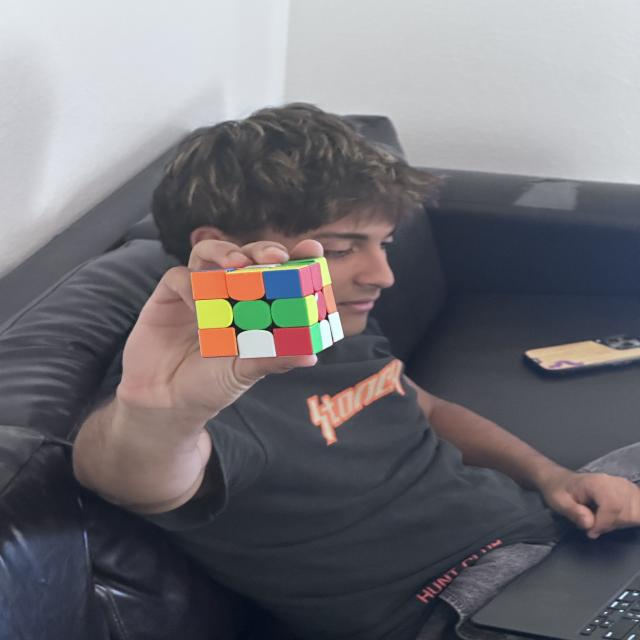sticker: (271, 296, 317, 330), (264, 266, 306, 301), (196, 326, 240, 359), (189, 268, 230, 302), (232, 298, 273, 332), (272, 325, 314, 358), (225, 269, 266, 302), (235, 328, 277, 359), (194, 298, 234, 330), (300, 262, 324, 295), (326, 311, 345, 343), (316, 318, 334, 351), (314, 256, 332, 288), (308, 320, 325, 353), (322, 283, 338, 315), (315, 290, 328, 321)
